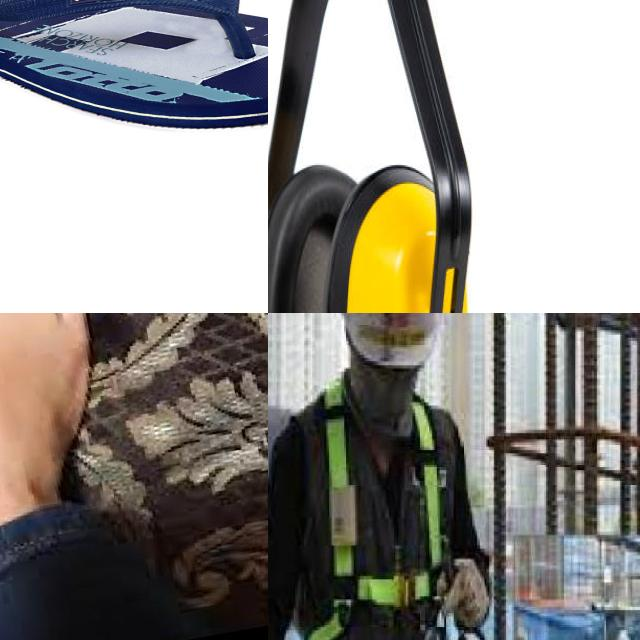Barefoots: (0, 313, 96, 521)
Ear-protection: (268, 0, 496, 313)
Harness: (299, 361, 465, 640)
Sandals: (0, 0, 268, 134)
